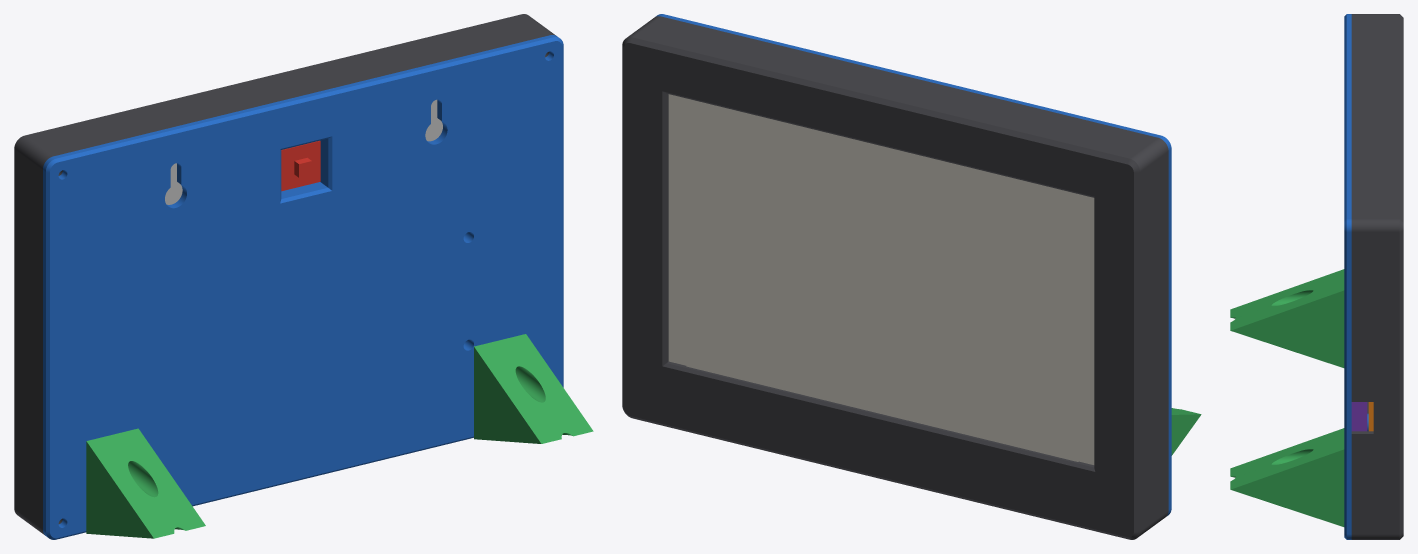
The model's file is assembly.obj.
3 views of the same model, side by side, from view 1: azimuth 30°, elevation 25°; view 2: azimuth 150°, elevation 25°; view 3: azimuth 270°, elevation 25° (orthographic). The views are drawn at different scales.
Parts seen in each view (by area): view 1: back_cover, frame, foot_1, foot_2, ref_key_switch, backer; view 2: ref_panel, frame, back_cover, foot_1; view 3: frame, foot_1, foot_2, back_cover, ref_esp32.
Part boxes in pixels (x1=…): back_cover: x1=43, y1=35, x2=563, y2=539; frame: x1=14, y1=14, x2=555, y2=535; foot_1: x1=86, y1=428, x2=205, y2=538; foot_2: x1=474, y1=334, x2=593, y2=443; ref_key_switch: x1=281, y1=140, x2=320, y2=191; backer: x1=165, y1=99, x2=442, y2=204; ref_panel: x1=668, y1=94, x2=1094, y2=464; frame: x1=622, y1=16, x2=1168, y2=539; back_cover: x1=655, y1=14, x2=1171, y2=515; foot_1: x1=1171, y1=408, x2=1201, y2=455; frame: x1=1351, y1=14, x2=1403, y2=539; foot_1: x1=1230, y1=269, x2=1344, y2=367; foot_2: x1=1230, y1=428, x2=1344, y2=526; back_cover: x1=1344, y1=14, x2=1368, y2=539; ref_esp32: x1=1351, y1=402, x2=1367, y2=431.
Bounding box in the file's own units: 199 × 140 × 68.5.
